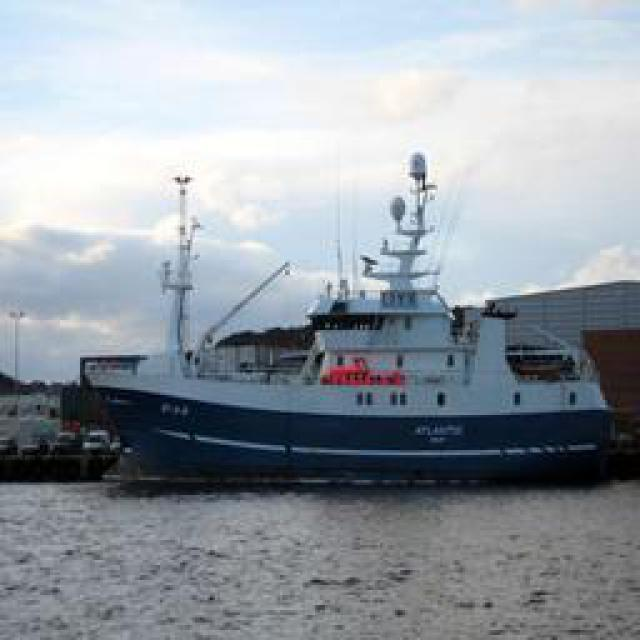Ship: (86, 142, 624, 482)
